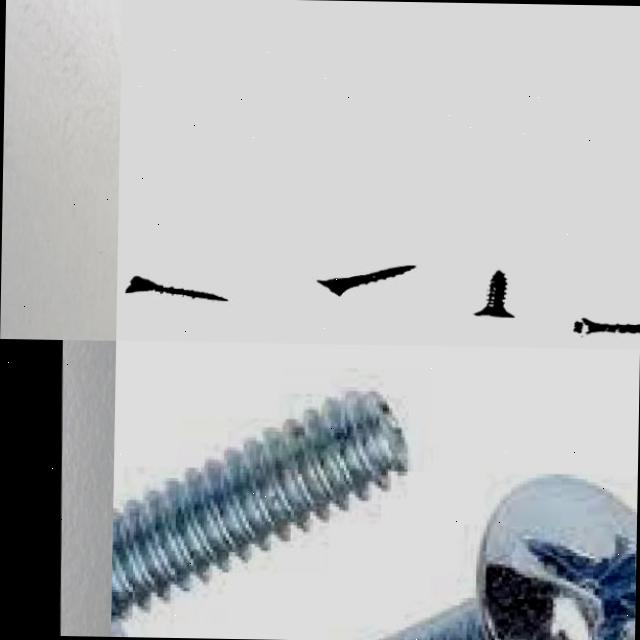Screw: (111, 391, 410, 637), (384, 471, 637, 640), (316, 265, 414, 296), (123, 276, 225, 301), (473, 270, 513, 317), (573, 318, 640, 334)
